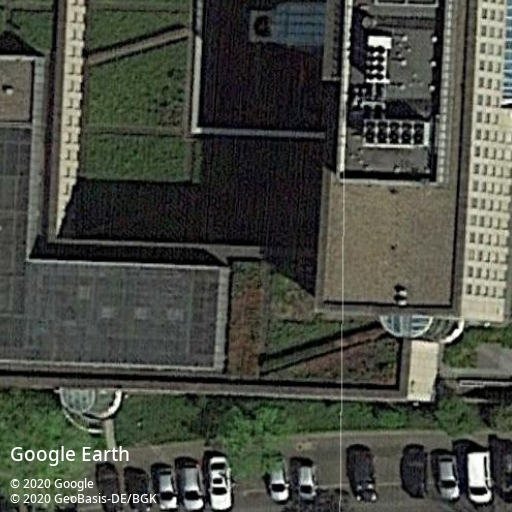Chiller: (362, 119, 430, 149), (364, 36, 391, 82)
